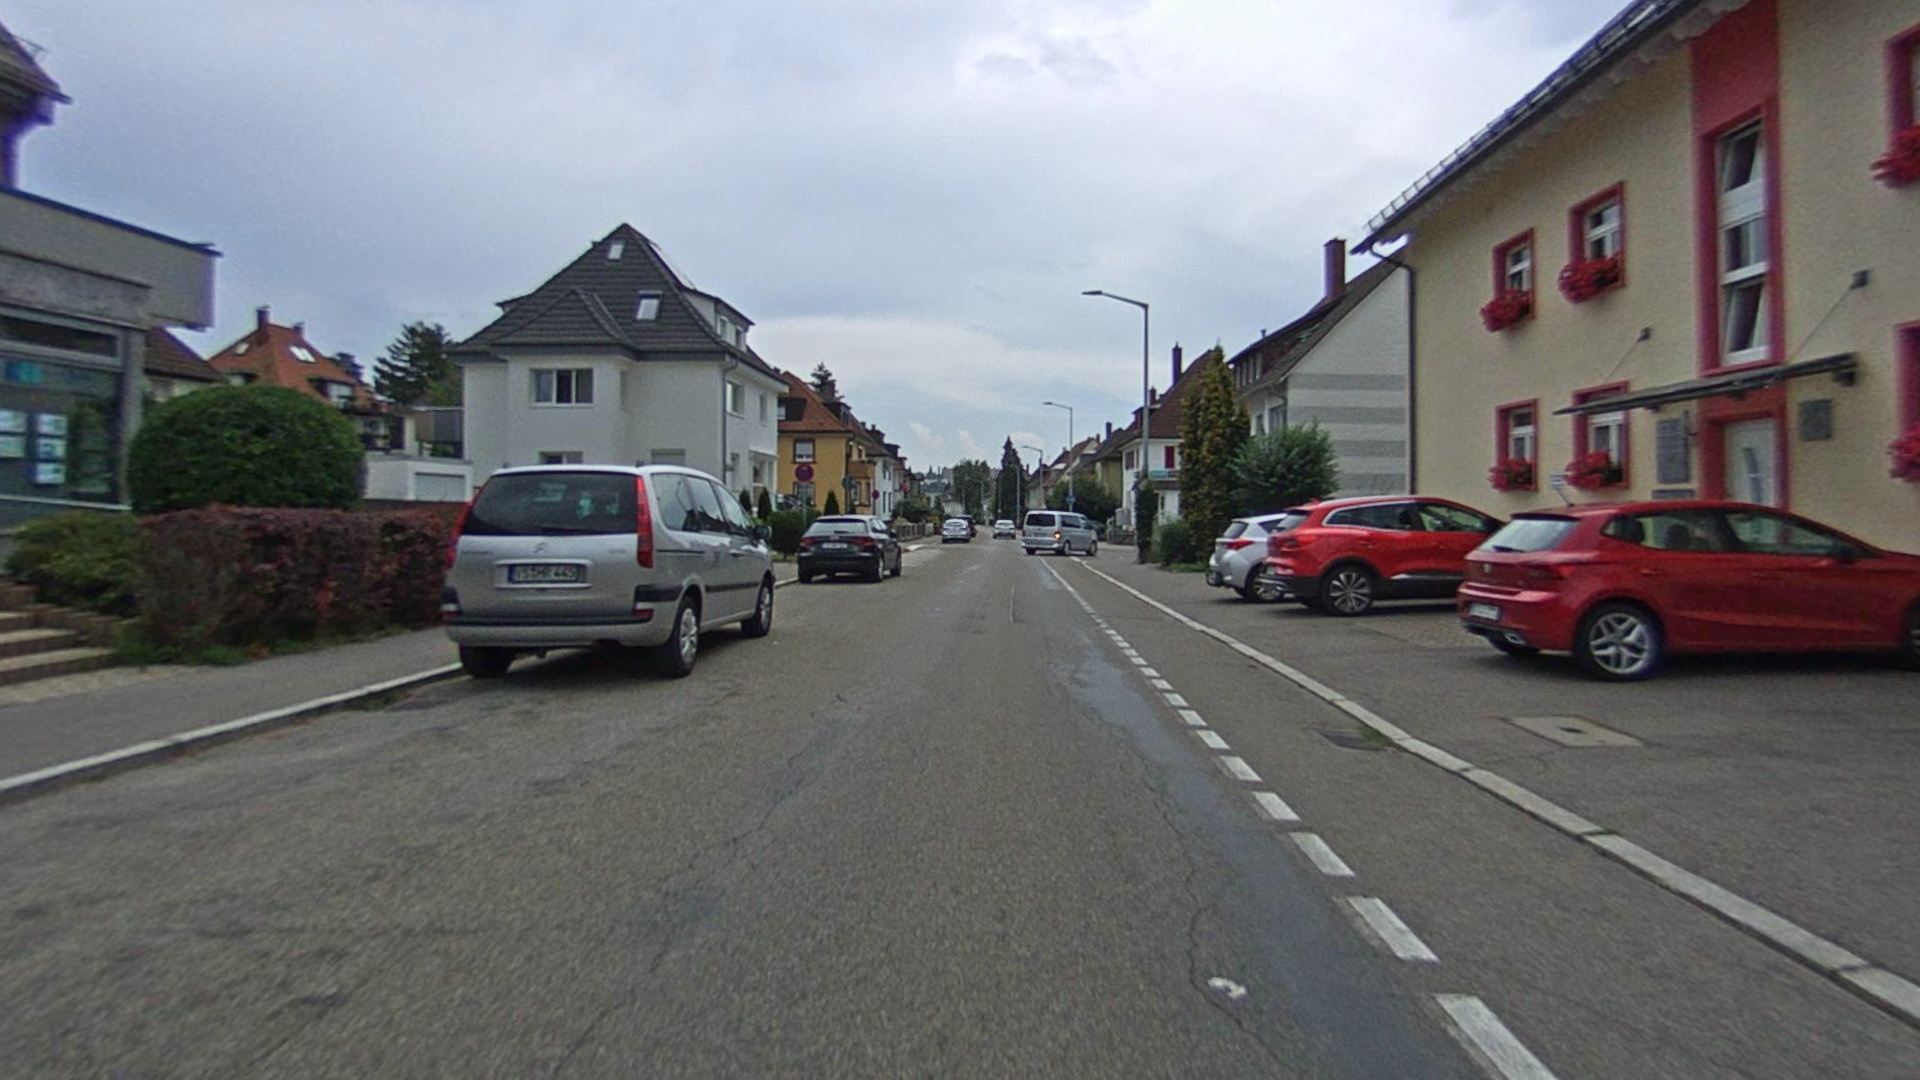car: (438, 462, 778, 680)
